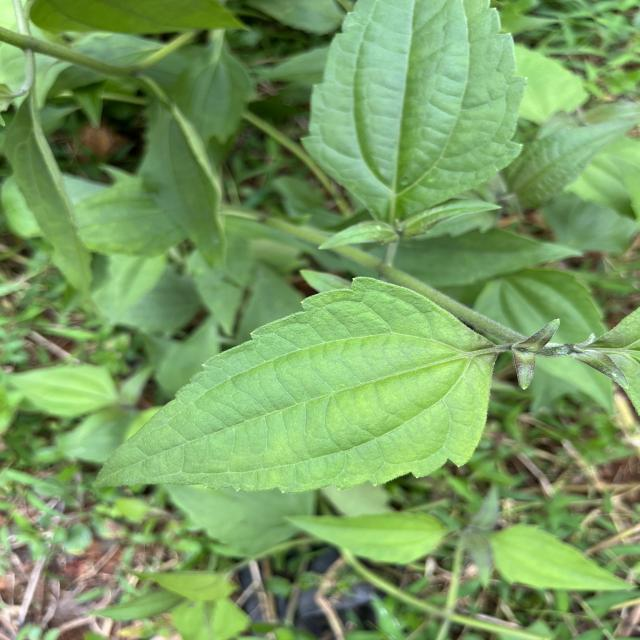Chromolaena odorata: (88, 270, 504, 500)
